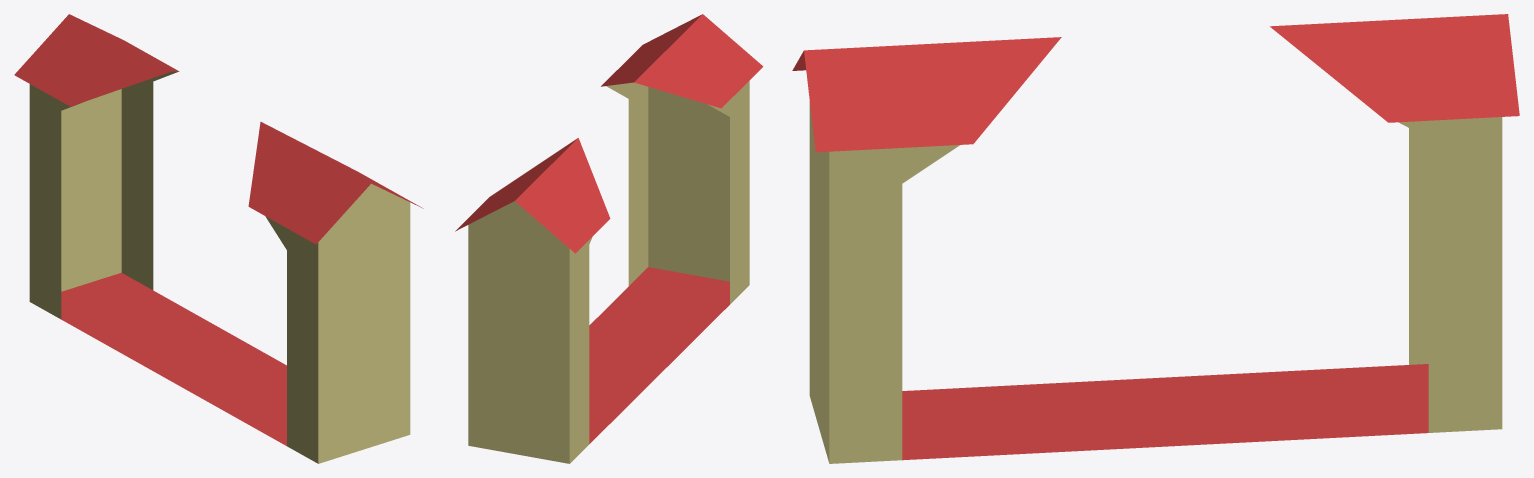
3 renders of one model, left to right at view 1: azimuth 30°, elevation 25°; view 2: azimuth 150°, elevation 25°; view 3: azimuth 270°, elevation 25°, orthographic. The views are drawn at different scales.
Bounding box in the file's own units: 8.85 × 23.12 × 13.34.
